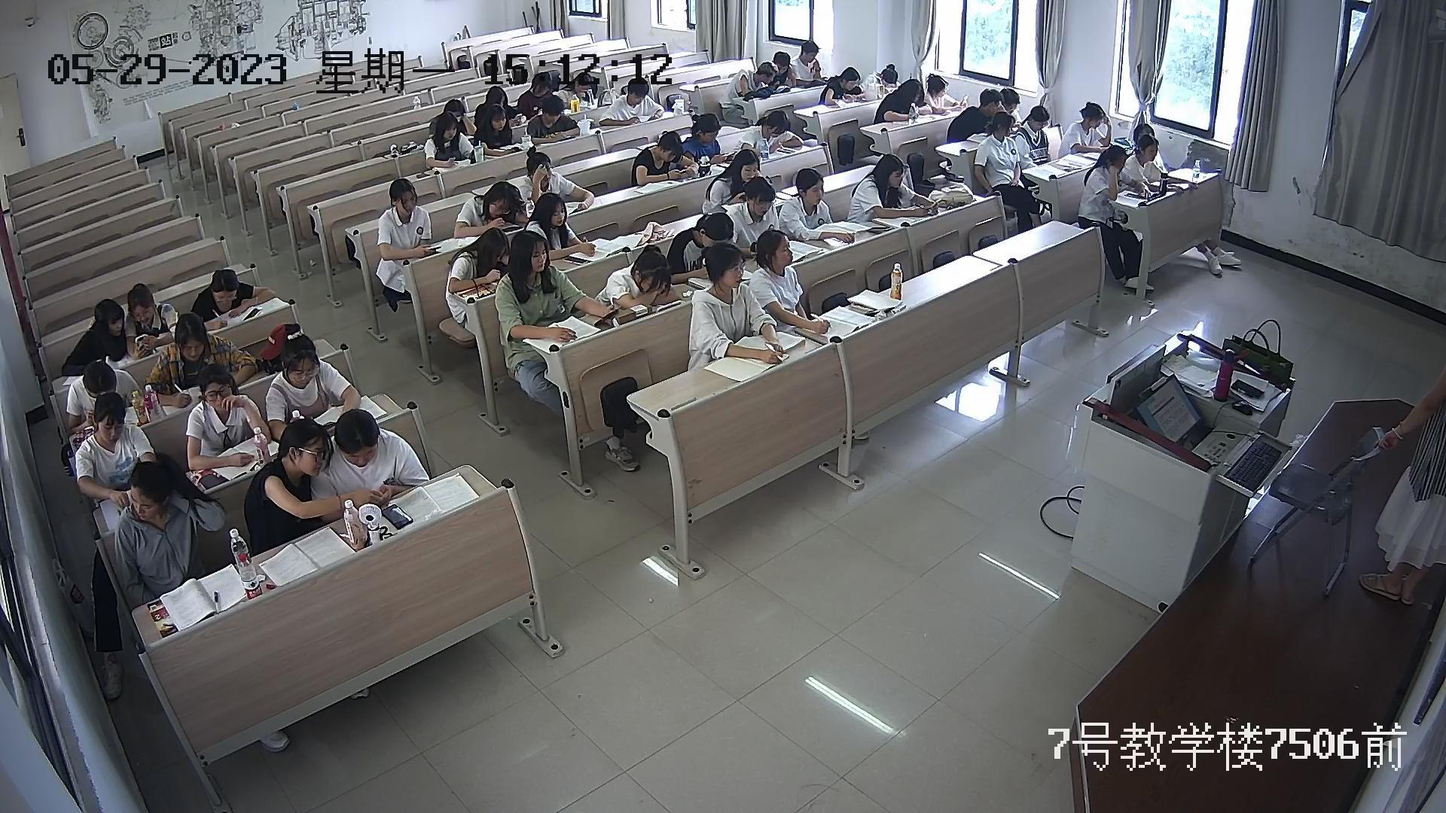Look Around: (126, 459, 183, 517)
Normal: (707, 254, 761, 351), (268, 344, 349, 407)
phone: (376, 499, 414, 534), (415, 236, 441, 263)
